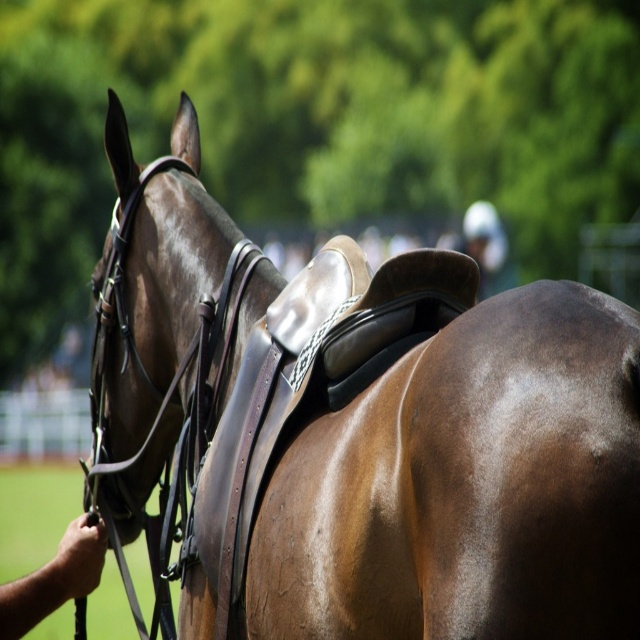Horse: (75, 87, 640, 639)
